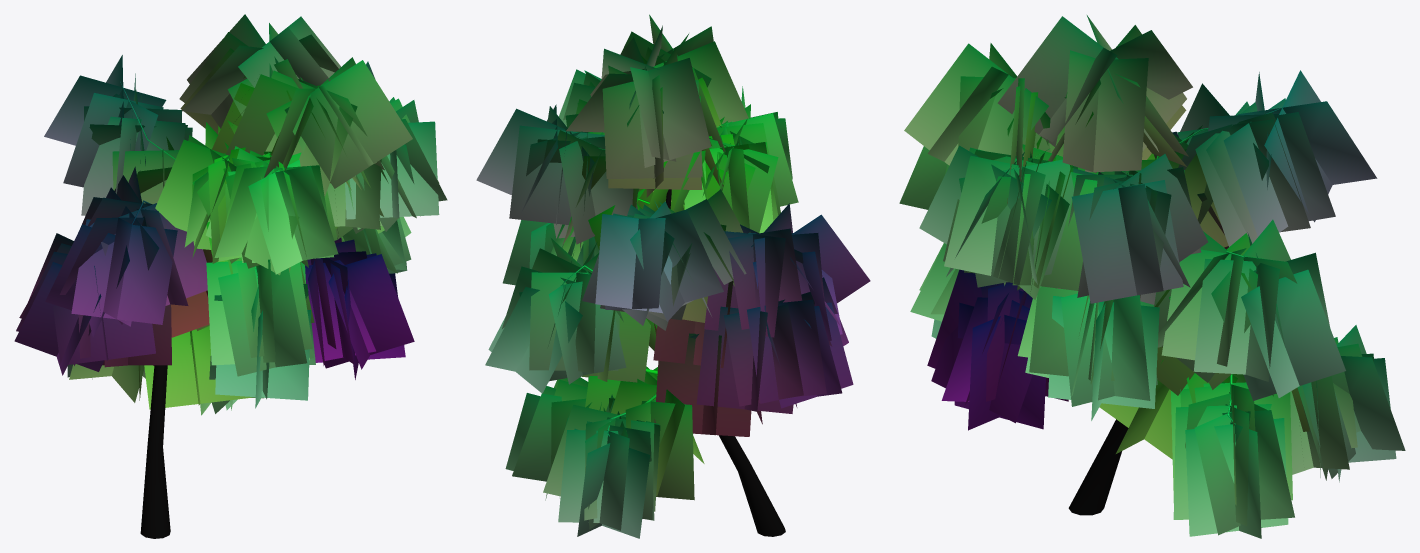
The model's file is M_P13_Tree_4.fbx.
3 views of the same model, side by side, from view 1: azimuth 30°, elevation 25°; view 2: azimuth 150°, elevation 25°; view 3: azimuth 270°, elevation 25° (orthographic). The views are drawn at different scales.
Parts seen in each view (by area): view 1: Tree_4; view 2: Tree_4; view 3: Tree_4.
Part boxes in pixels (left/top/right/bottom): Tree_4: left=14, top=14, right=447, bottom=538; Tree_4: left=476, top=14, right=870, bottom=538; Tree_4: left=899, top=15, right=1405, bottom=538.
Size of the model in its own units: 478 by 584 by 477.
